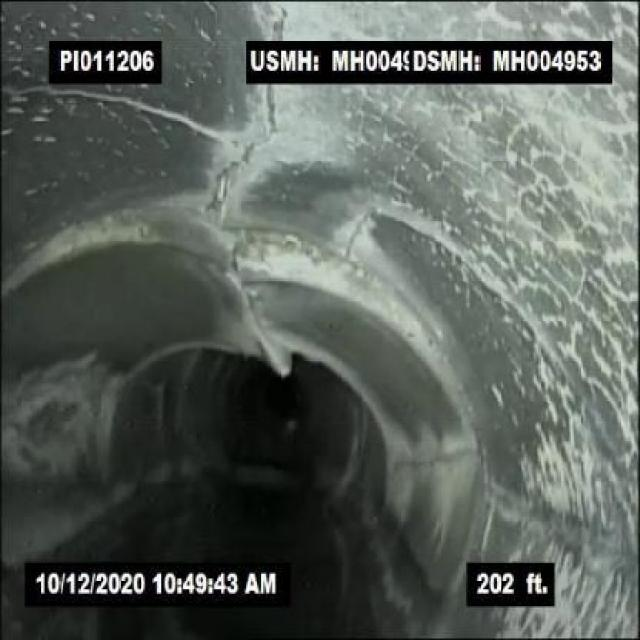Buckling: (132, 191, 406, 358)
Crack: (192, 84, 303, 174)
